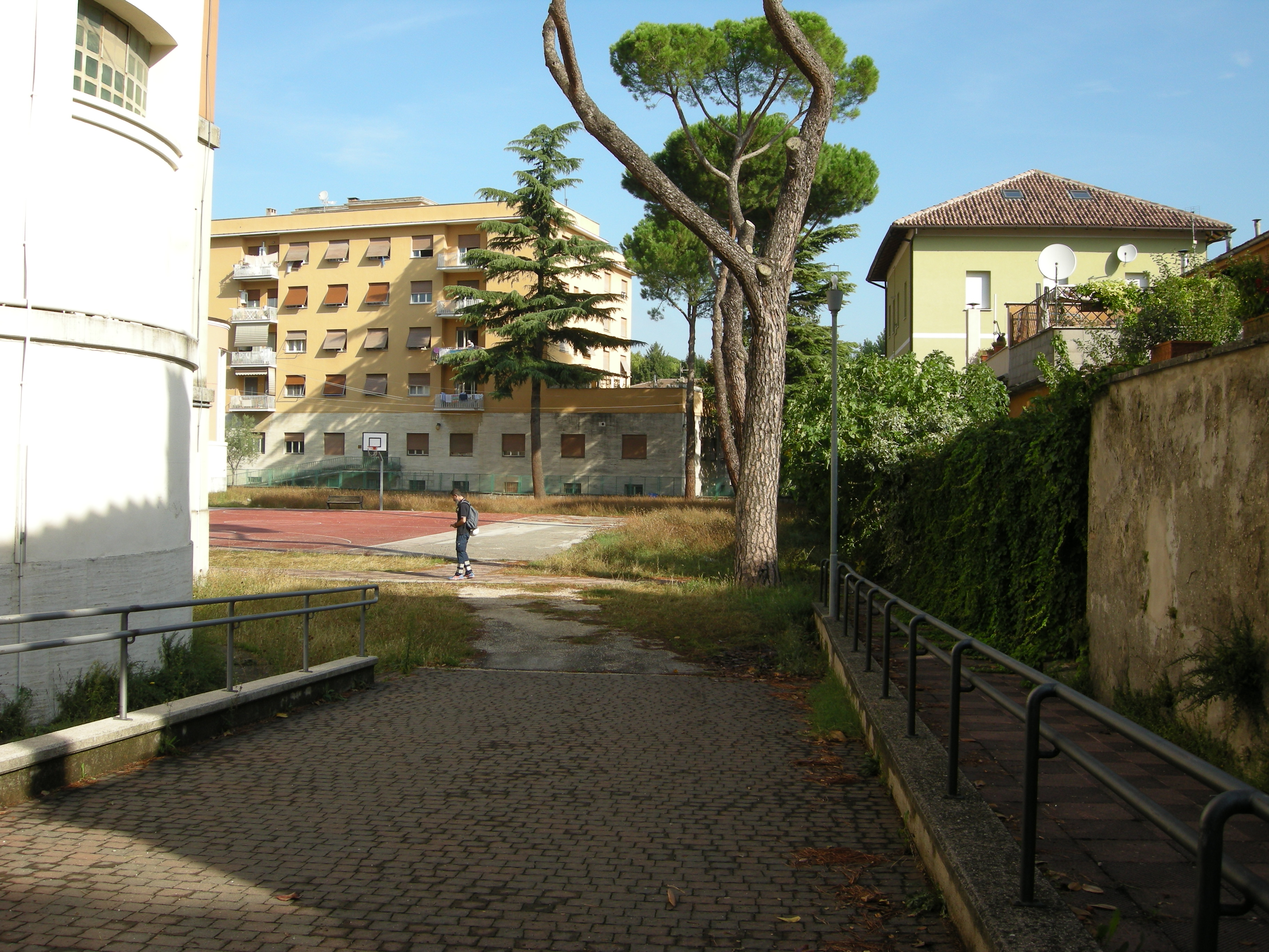Spalling: (166, 499, 187, 520)
